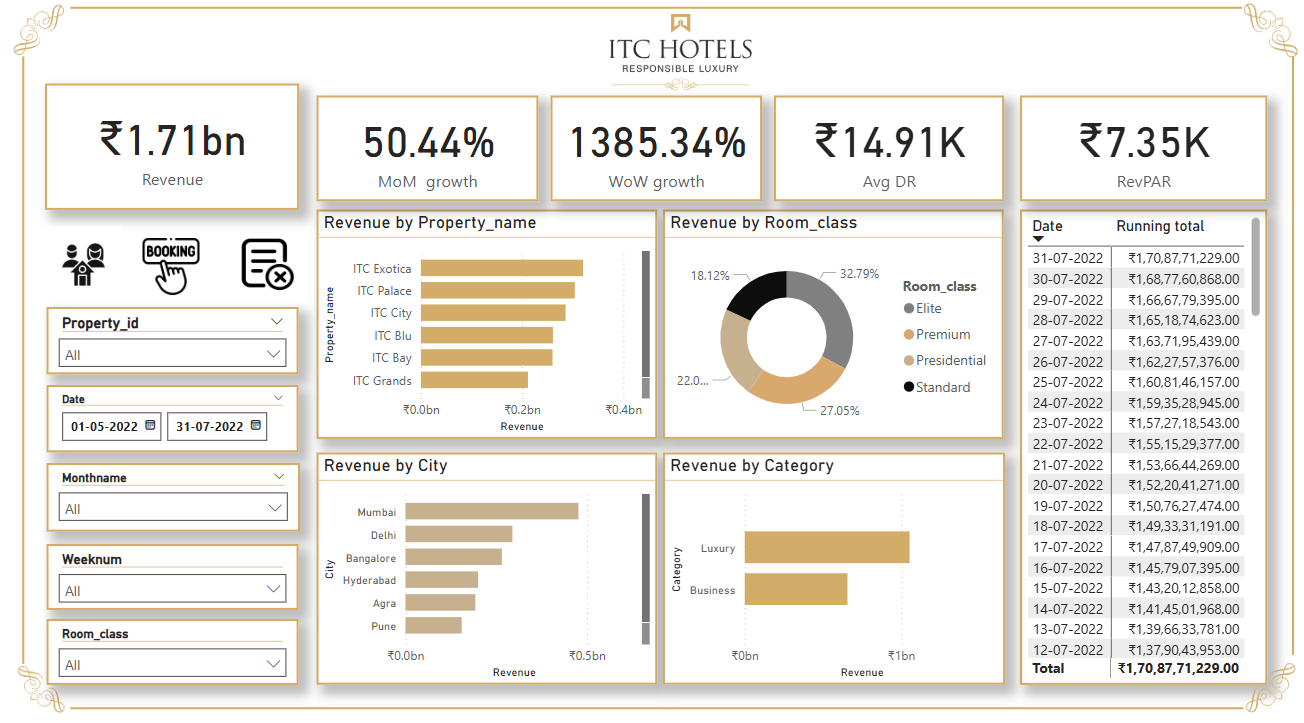

This screenshot's page, from the dashboard's own definition file:
{"tool":"powerbi","page":{"name":"Financial","canvas":[1280,720],"ordinal":0},"visuals":[{"type":"card","fields":{"Values":["table.revenue"]},"box":[46.4,94.4,246.8,122.6],"z":0},{"type":"barChart","fields":{"Category":["Hotels.property_name"],"Y":["table.revenue"]},"box":[310,216.9,330.4,222.7],"z":1000},{"type":"donutChart","fields":{"Category":["Rooms.room_class"],"Y":["table.Revenue"]},"box":[646.3,216.9,330.4,222.7],"z":2000},{"type":"pivotTable","fields":{"Rows":["Calendar.Date"],"Values":["table.running total"]},"box":[992.7,216.9,240.2,461.4],"z":3000},{"type":"card","fields":{"Values":["table.mom%growth"]},"box":[309.8,106,215.3,102.7],"z":4000},{"type":"card","fields":{"Values":["table.wow%growth"]},"box":[536.7,106,205.4,102.7],"z":5000},{"type":"card","fields":{"Values":["table.ADR2"]},"box":[753.7,106,223.6,102.7],"z":6000},{"type":"card","fields":{"Values":["table.RevPAR"]},"box":[992.2,106,240.2,102.7],"z":7000},{"type":"shape","box":[71.3,10.2,1136.8,21.8],"z":8000},{"type":"shape","box":[13.1,68.4,24.7,589.5],"z":9000},{"type":"shape","box":[71.3,698.7,1138.2,4.4],"z":10000},{"type":"shape","box":[1254.7,68.4,5.8,580.8],"z":11000},{"type":"image","box":[558.2,21.5,208.7,84.5],"z":12000},{"type":"image","box":[0,0,75.7,80.1],"z":13000},{"type":"image","box":[1.5,649.2,78.6,71.3],"z":14000},{"type":"image","box":[1197.9,0,81.5,80.1],"z":15000},{"type":"image","box":[1197.9,646.3,81.5,74.2],"z":16000},{"type":"barChart","fields":{"Category":["Hotels.city"],"Y":["table.Revenue"]},"box":[310,452.7,330.4,225.6],"z":17000},{"type":"barChart","fields":{"Y":["table.Revenue"],"Category":["Hotels.category"]},"box":[646.3,452.7,331.9,225.6],"z":18000},{"type":"slicer","fields":{"Values":["Hotels.property_id"]},"box":[48,311.5,244.5,65.5],"z":19000},{"type":"slicer","fields":{"Values":["Calendar.Date"]},"box":[48,387.2,244.5,65.5],"z":20000},{"type":"slicer","fields":{"Values":["Calendar.Monthname"]},"box":[48,462.9,246,67],"z":21000},{"type":"slicer","fields":{"Values":["Calendar.weeknum"]},"box":[48,541.5,244.5,64],"z":22000},{"type":"slicer","fields":{"Values":["Rooms.Room_class"]},"box":[48,614.2,244.5,64],"z":23000},{"type":"actionButton","box":[47.3,233.1,74,74],"z":24000},{"type":"actionButton","box":[141.8,244.1,55.1,55.1],"z":25000},{"type":"actionButton","box":[234.7,244.1,56.7,52],"z":26000}]}

Visuals, with their boxes in screenshot pixels (x1, y1, x2, y2), scaled from the page's 1280x720 canvas onto the 1304x723 screenshot:
card - table.revenue: crop(47, 95, 299, 218)
barChart - Hotels.property_name x table.revenue: crop(316, 218, 652, 441)
donutChart - Rooms.room_class x table.Revenue: crop(658, 218, 995, 441)
pivotTable - Calendar.Date x table.running total: crop(1011, 218, 1256, 681)
card - table.mom%growth: crop(316, 106, 535, 210)
card - table.wow%growth: crop(547, 106, 756, 210)
card - table.ADR2: crop(768, 106, 996, 210)
card - table.RevPAR: crop(1011, 106, 1256, 210)
shape: crop(73, 10, 1231, 32)
shape: crop(13, 69, 39, 661)
shape: crop(73, 702, 1232, 706)
shape: crop(1278, 69, 1284, 652)
image: crop(569, 22, 781, 106)
image: crop(0, 0, 77, 80)
image: crop(2, 652, 82, 722)
image: crop(1220, 0, 1303, 80)
image: crop(1220, 649, 1303, 722)
barChart - Hotels.city x table.Revenue: crop(316, 455, 652, 681)
barChart - table.Revenue x Hotels.category: crop(658, 455, 997, 681)
slicer - Hotels.property_id: crop(49, 313, 298, 379)
slicer - Calendar.Date: crop(49, 389, 298, 455)
slicer - Calendar.Monthname: crop(49, 465, 300, 532)
slicer - Calendar.weeknum: crop(49, 544, 298, 608)
slicer - Rooms.Room_class: crop(49, 617, 298, 681)
actionButton: crop(48, 234, 124, 308)
actionButton: crop(144, 245, 201, 300)
actionButton: crop(239, 245, 297, 297)
